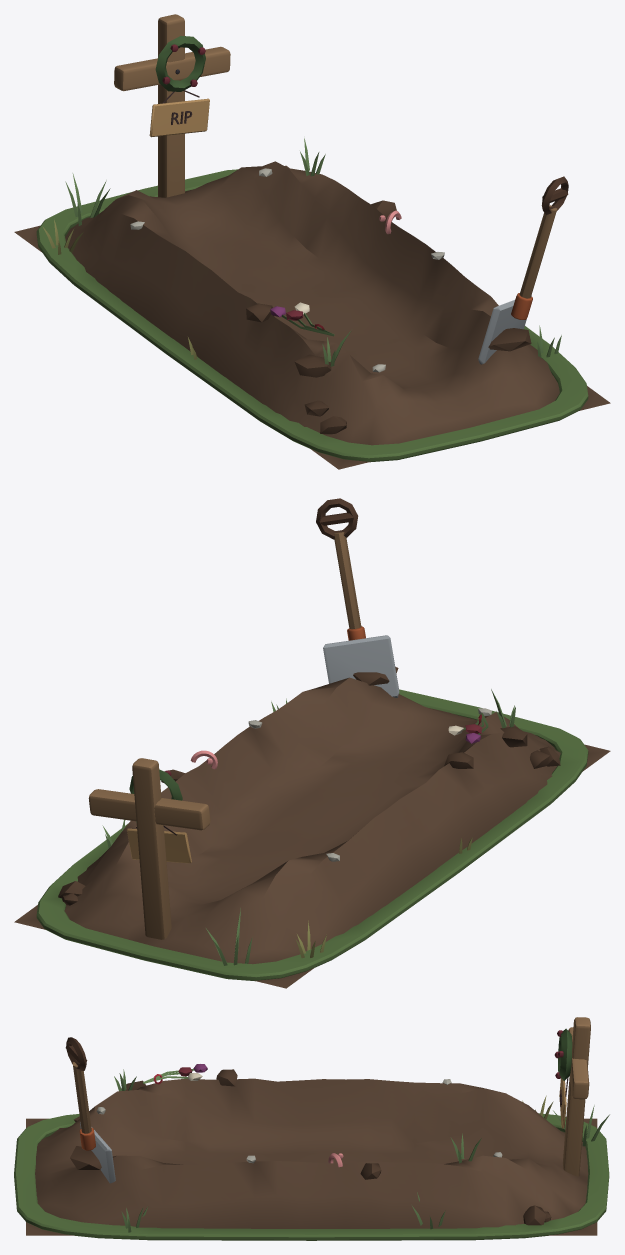
File: plot_budget.glb
3 views of the same model, one above another, from view 1: azimuth 30°, elevation 25°; view 2: azimuth 150°, elevation 25°; view 3: azimuth 270°, elevation 25° (orthographic). The views are drawn at different scales.
Visible parts, largest first — view 1: plot_budget; view 2: plot_budget; view 3: plot_budget.
Boxes of the visible parts, x1,y1,x2,y2 form: plot_budget: (14, 14, 610, 469); plot_budget: (14, 498, 610, 988); plot_budget: (14, 1017, 609, 1240).
Size of the model in its own units: 1 by 0.6895 by 1.99.
